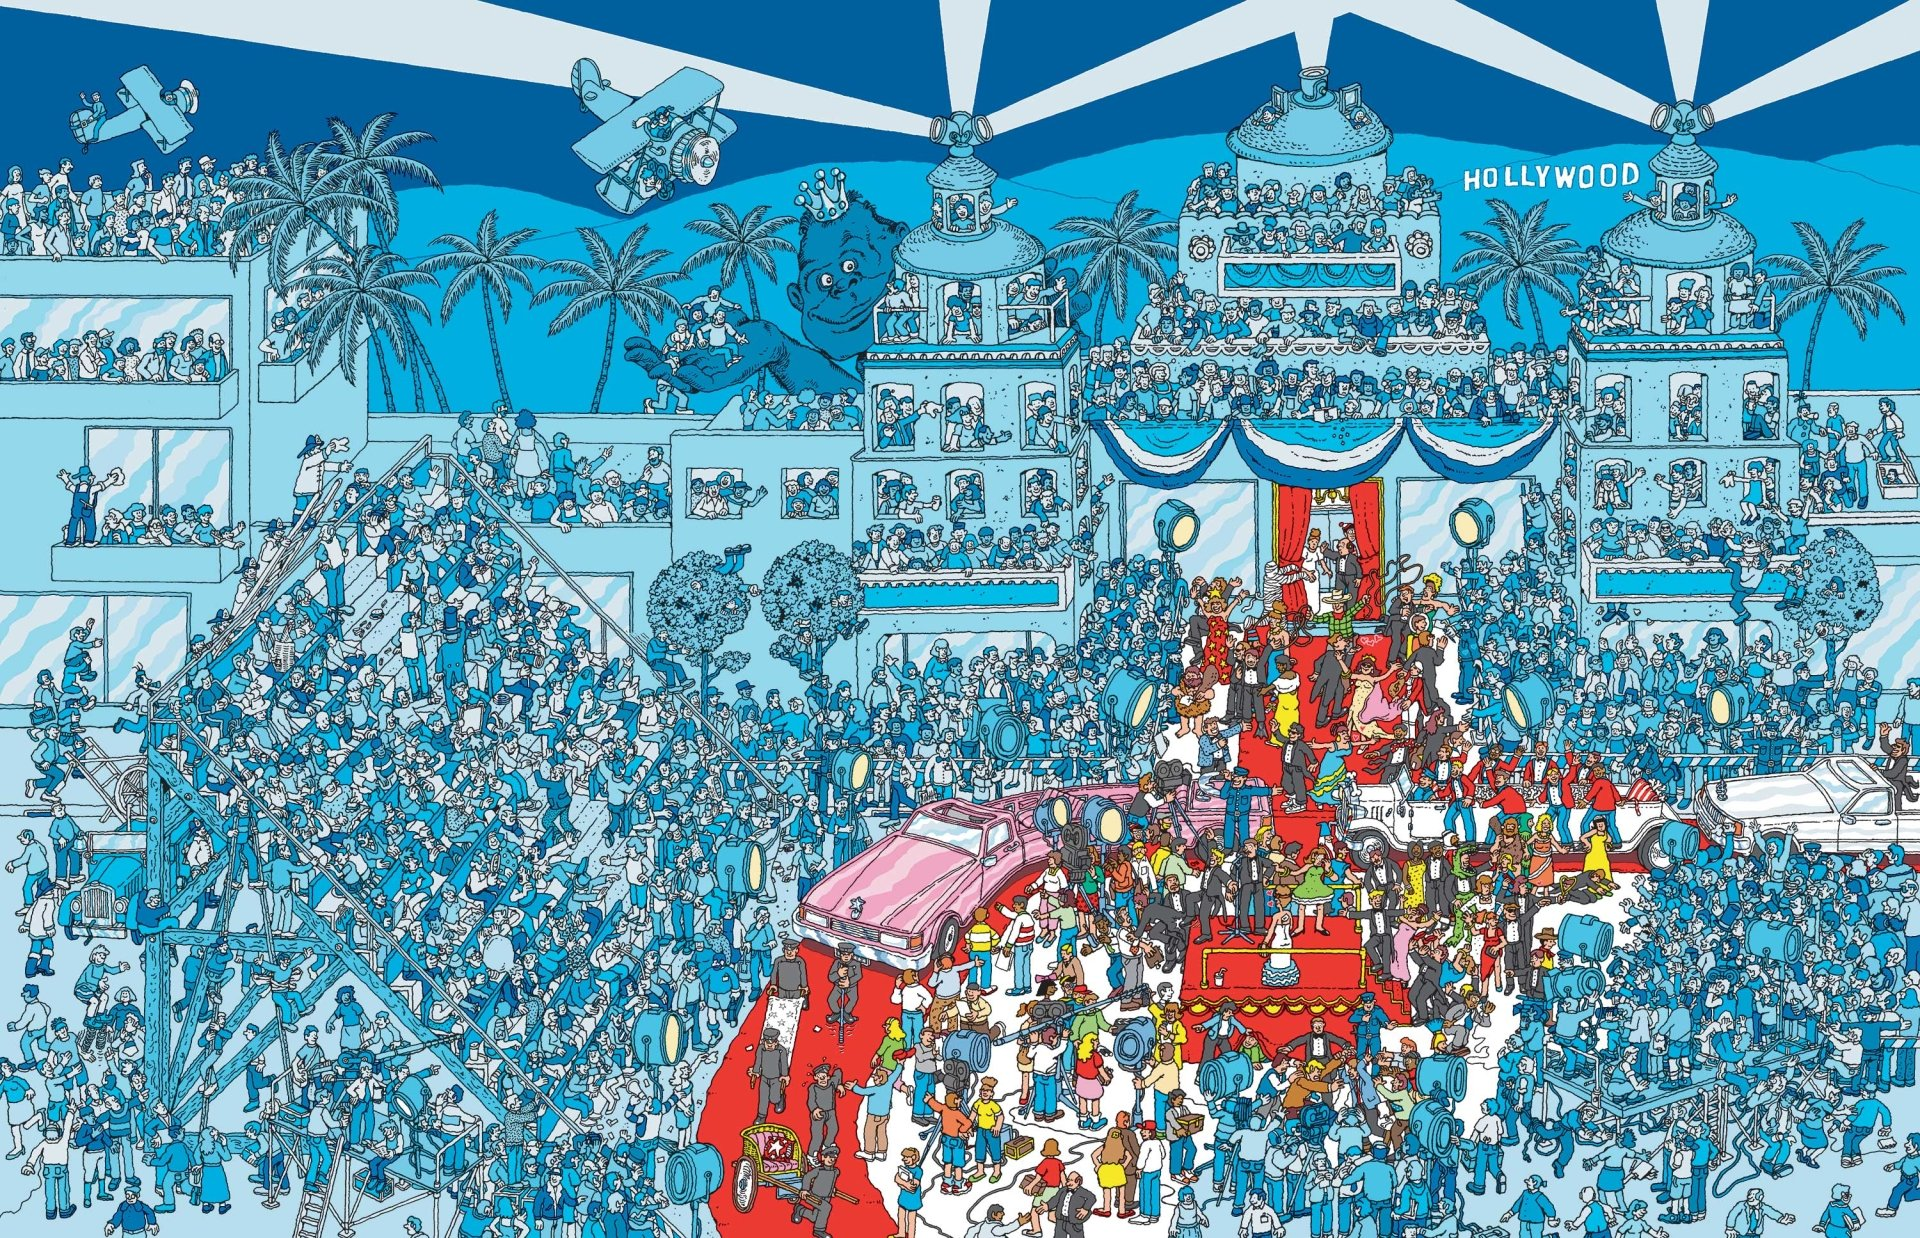Waldo: (1336, 516, 1364, 543)
